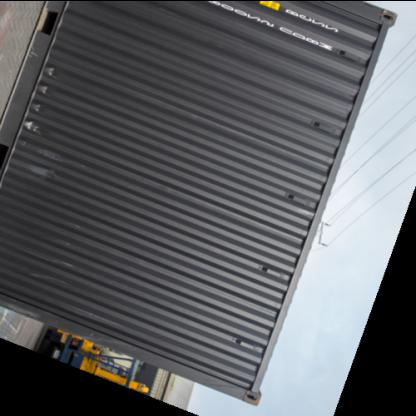Damage: (24, 67, 58, 134), (6, 289, 38, 325)
